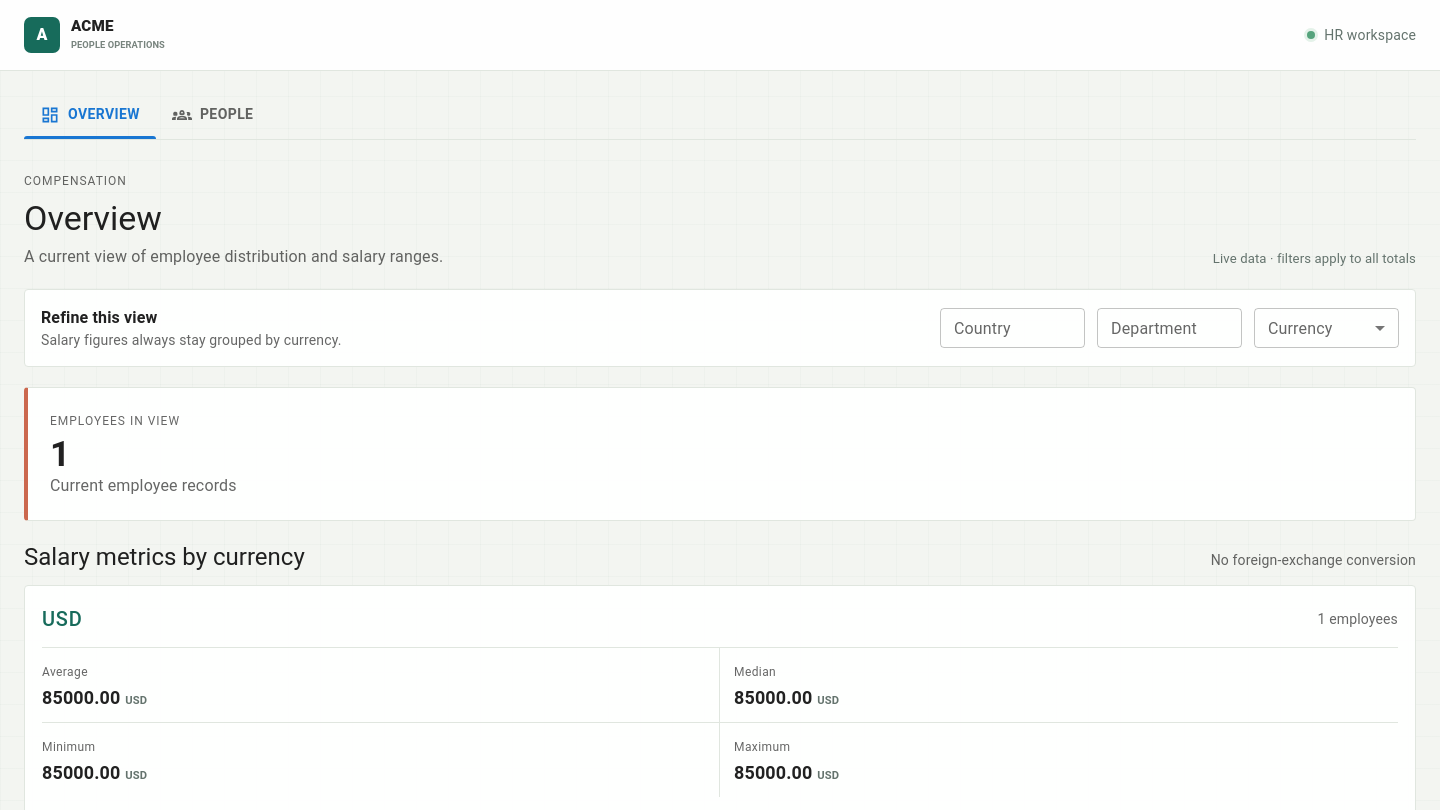
Test: salary management UI › submits the edited salary value for the selected employee
Click the tab "People".
click(213, 115)  # box top-left (156, 91), bottom-right (269, 139)
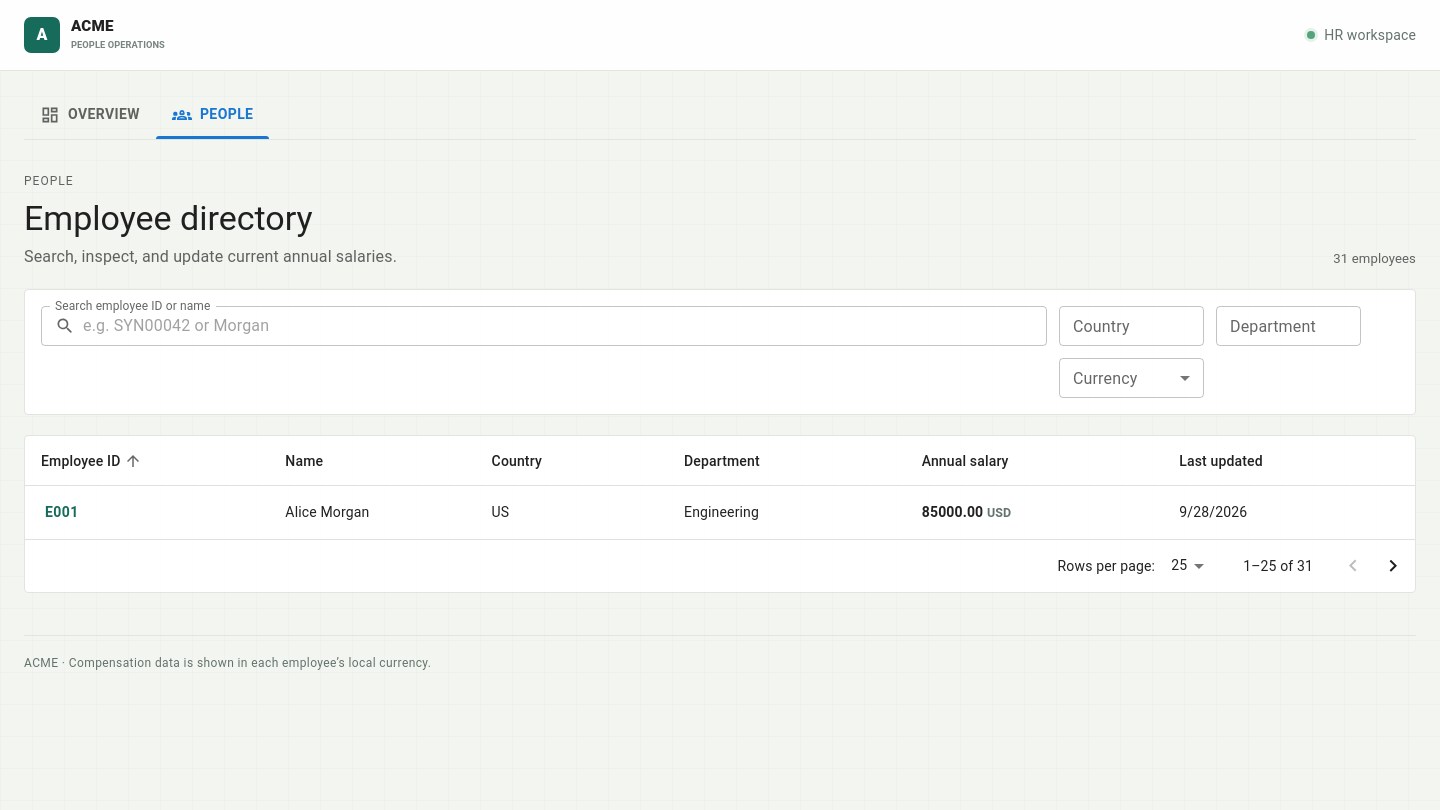
Click the button named "Open employee E001".
click(62, 512)  # box top-left (41, 498), bottom-right (83, 527)
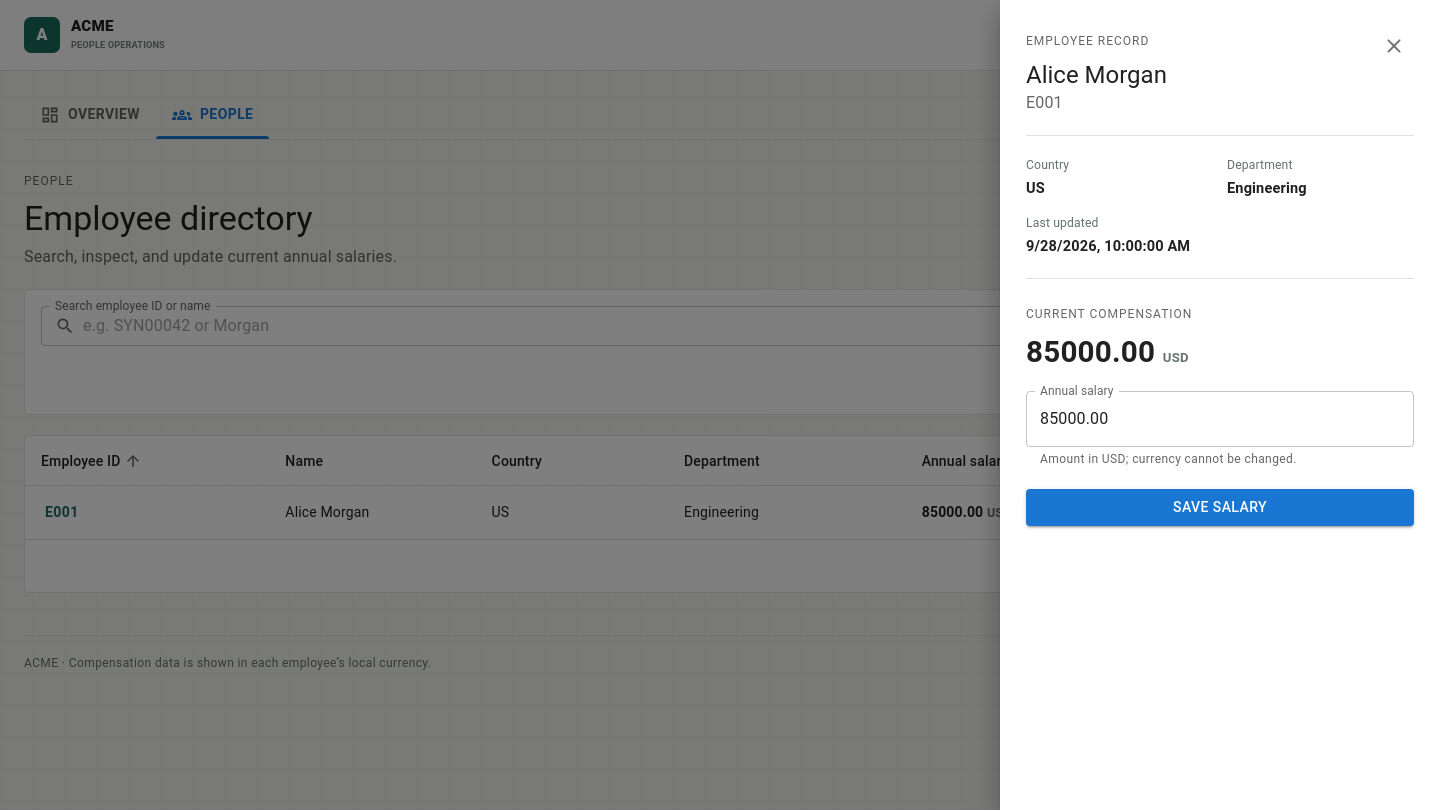
Replace the text in the field labelled "Annual salary" with "92000.50" at (1220, 418), box top-left (1026, 390), bottom-right (1414, 446)
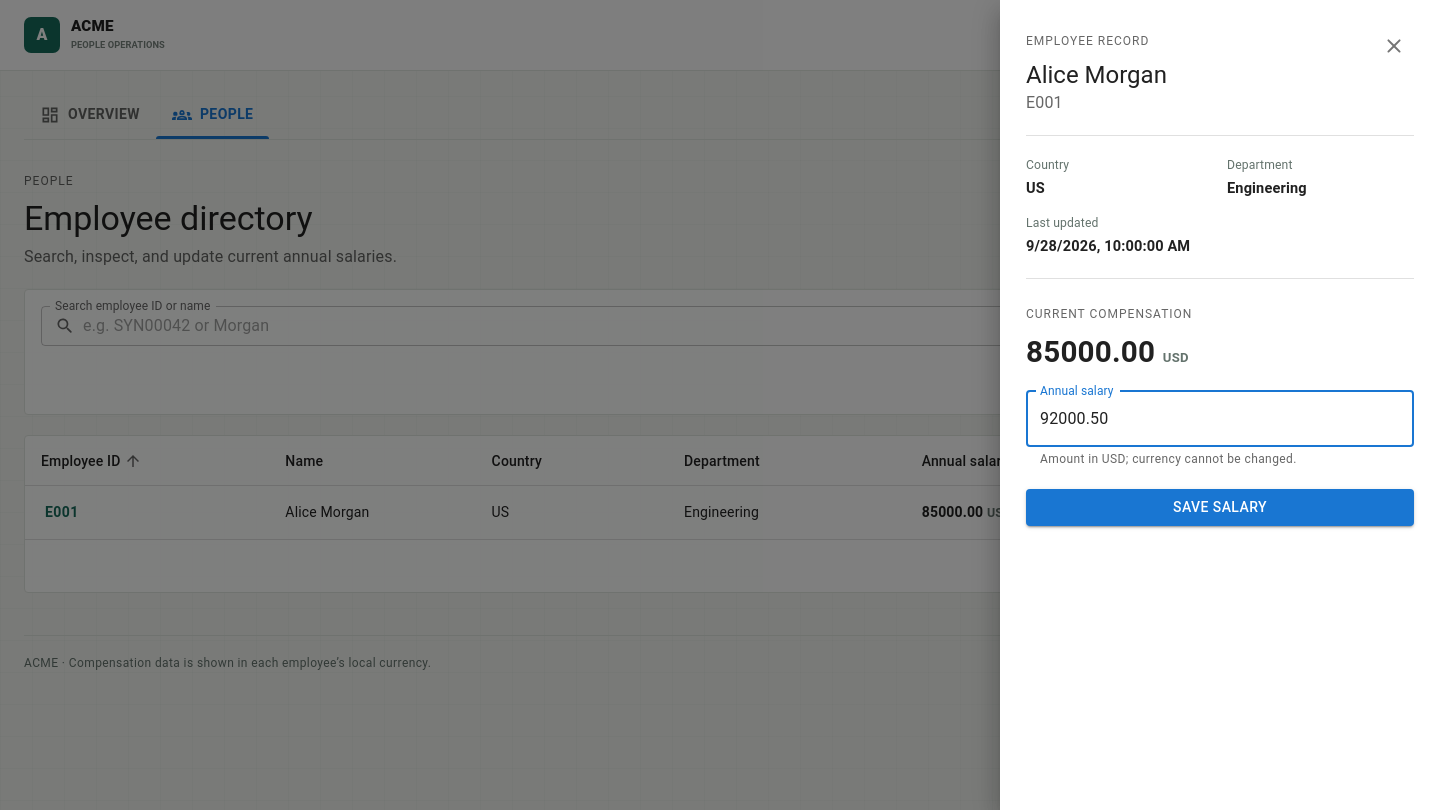
Click the button "Save salary".
click(1220, 508)  # box top-left (1026, 489), bottom-right (1414, 526)
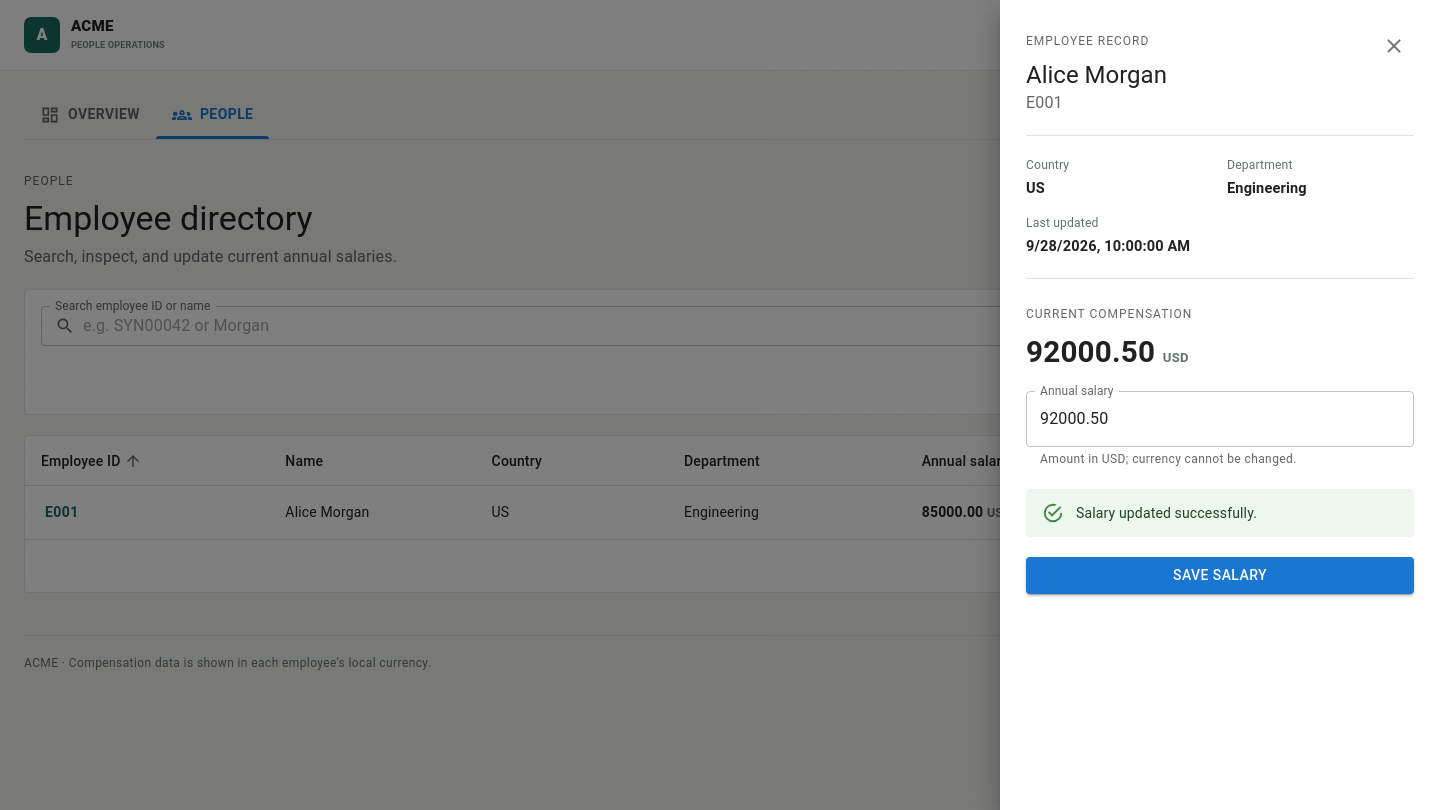
Now the text "Salary updated successfully." is shown, box top-left (1076, 505), bottom-right (1257, 521)
